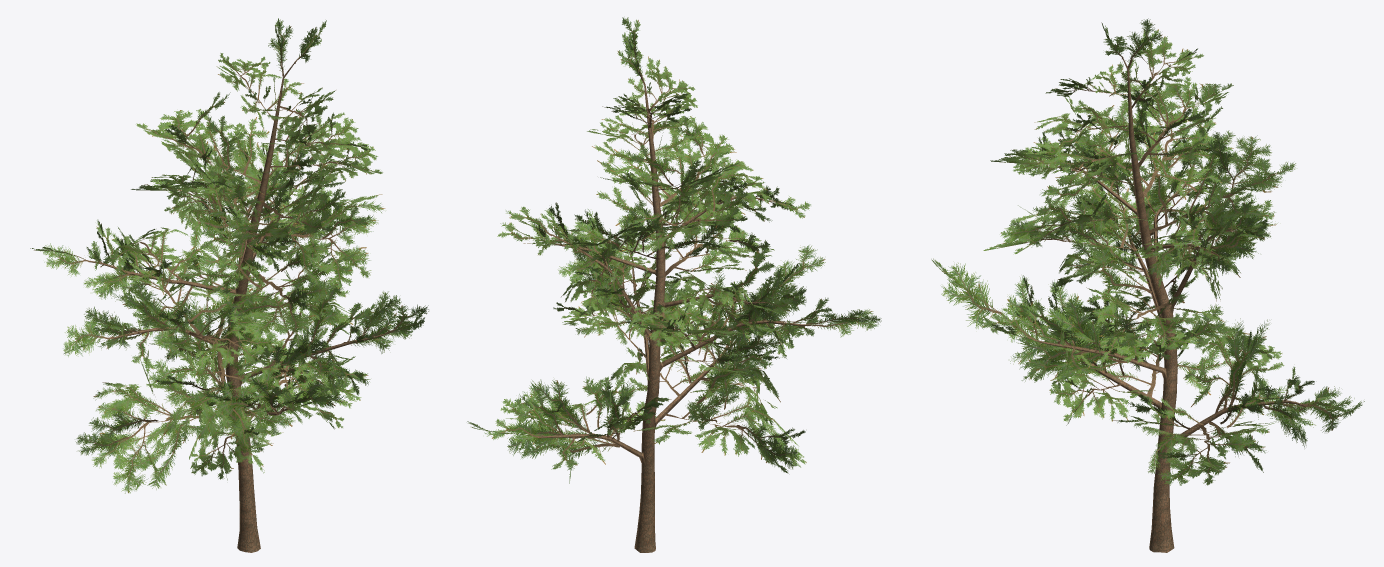
The picture shows the model from 3 angles, left to right: view 1: azimuth 30°, elevation 25°; view 2: azimuth 150°, elevation 25°; view 3: azimuth 270°, elevation 25°; orthographic projection. The views are drawn at different scales.
Visible parts, largest first — view 1: Pine_small_1_LOD1_Bark_Mat_0; view 2: Pine_small_1_LOD1_Bark_Mat_0; view 3: Pine_small_1_LOD1_Bark_Mat_0.
Boxes of the visible parts, box(x1,y1,x2,y2) form: Pine_small_1_LOD1_Bark_Mat_0: box(30, 18, 428, 552); Pine_small_1_LOD1_Bark_Mat_0: box(467, 17, 881, 552); Pine_small_1_LOD1_Bark_Mat_0: box(931, 18, 1364, 552).
Bounding box in the file's own units: 3.06 × 4.35 × 3.21.
